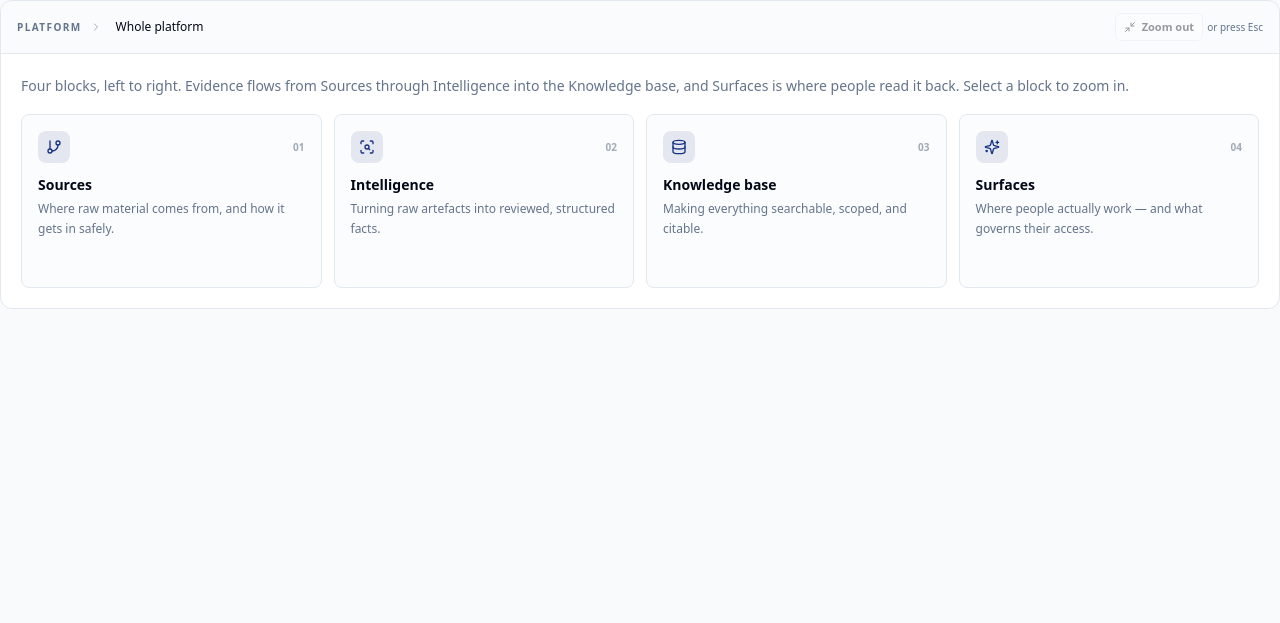
ArchitectureExplorer › zooms out one level at a time rather than exiting
The width and height of the screenshot is (1280, 623).
Click the text "Sources". click: click(65, 184)
box: [38, 175, 92, 194]
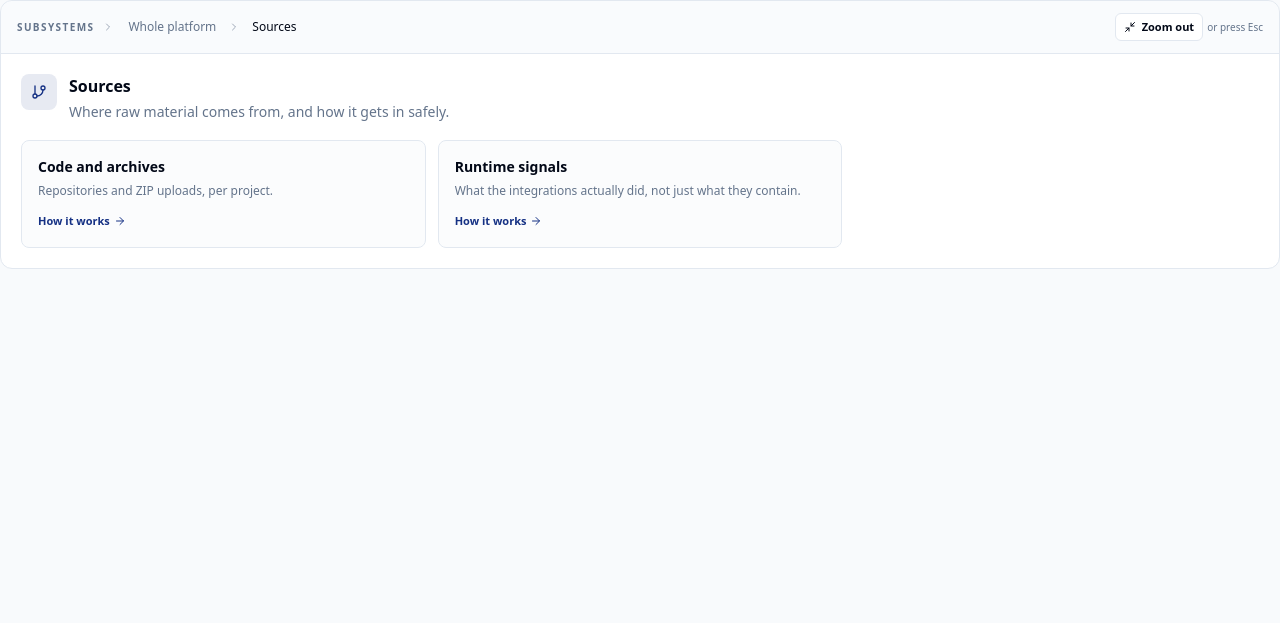
Click the text "Code and archives". click: click(101, 166)
box: [38, 157, 165, 176]
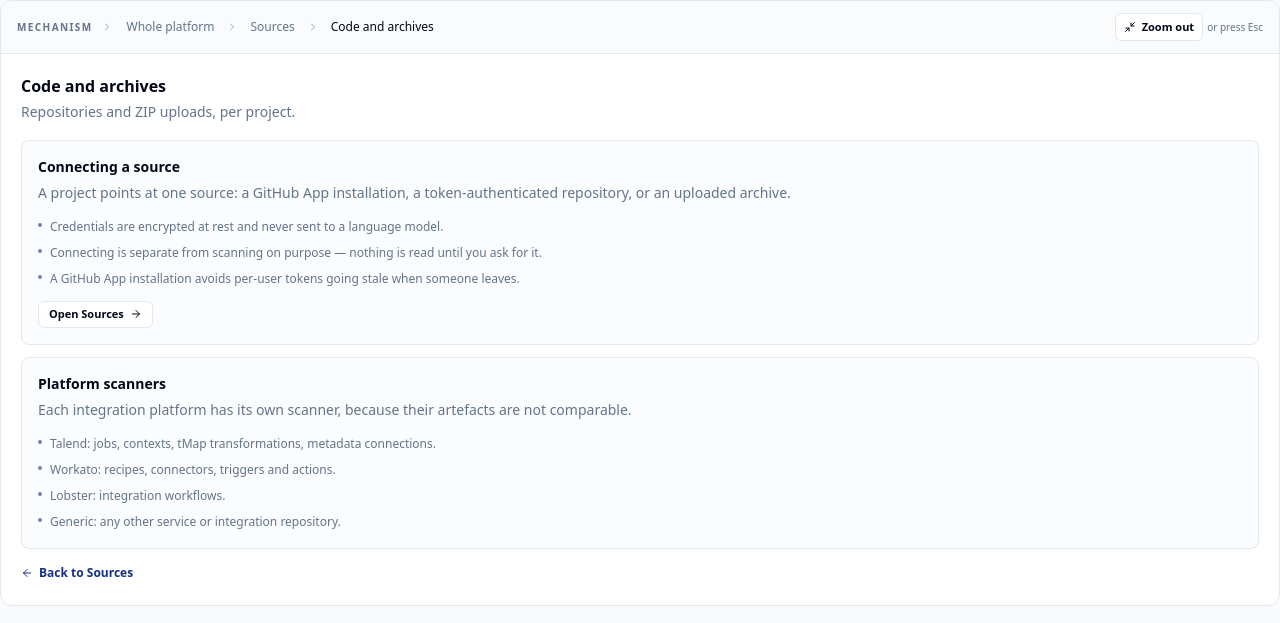
Click the button "Zoom out". click: click(1159, 27)
box: [1115, 13, 1203, 41]
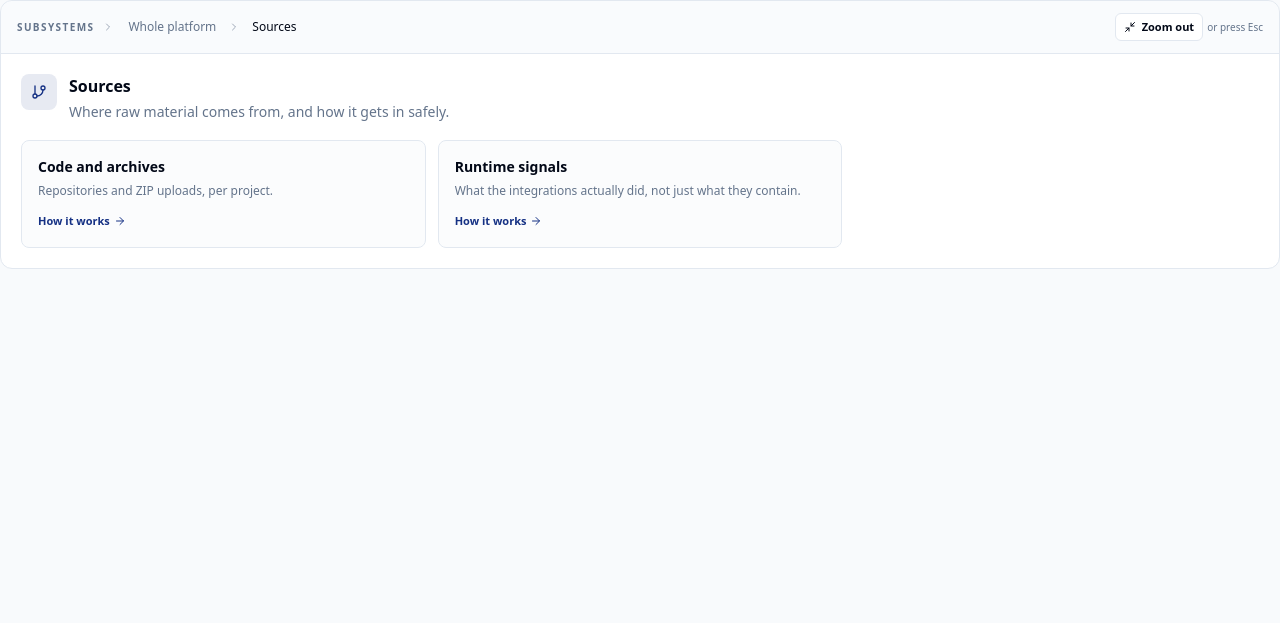
Now the text "Runtime signals" is shown, box [455, 157, 567, 176]
Click the button "Zoom out". click: click(1159, 27)
box: [1115, 13, 1203, 41]
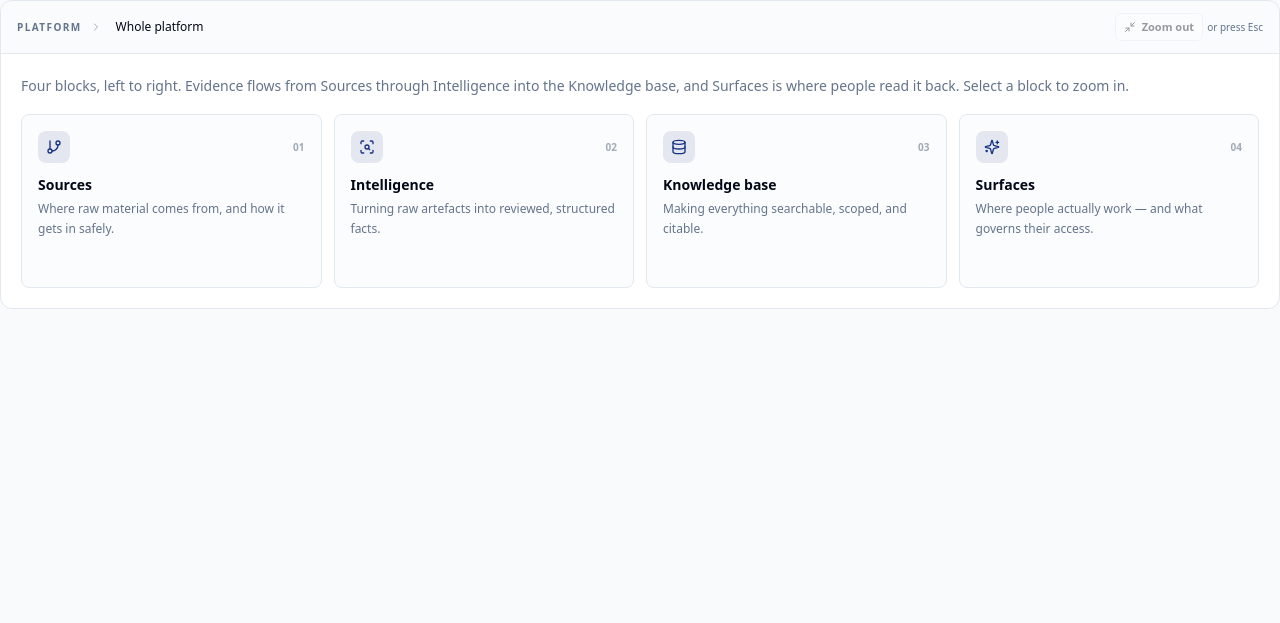
Now the text "Knowledge base" is shown, box [663, 175, 777, 194]
